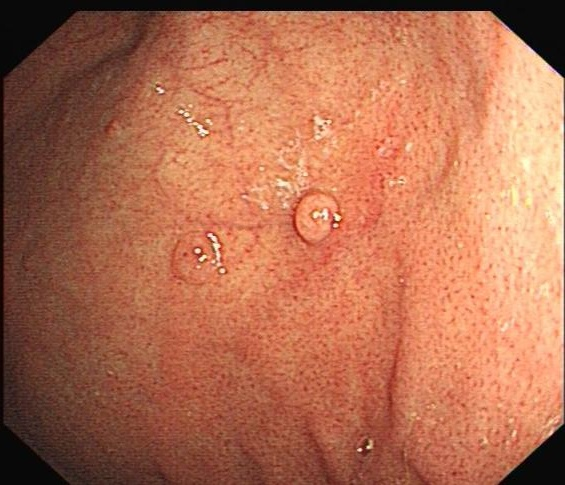Polyp: (283, 185, 340, 252), (168, 230, 229, 284)
